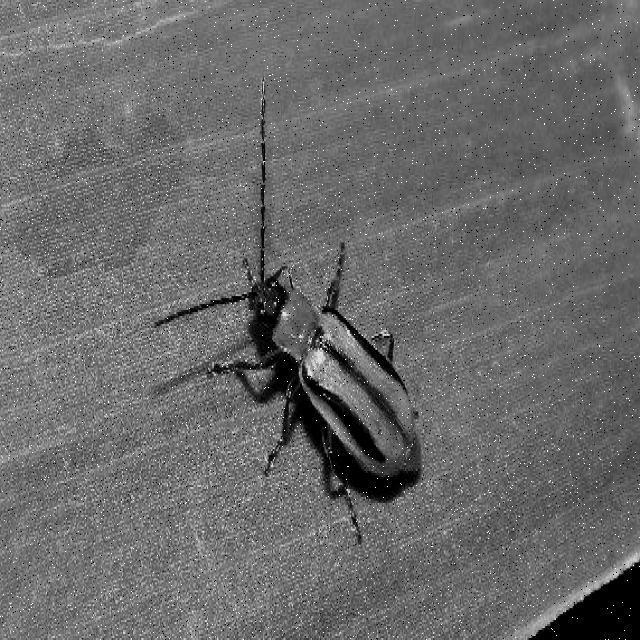trips: (157, 78, 426, 540)
